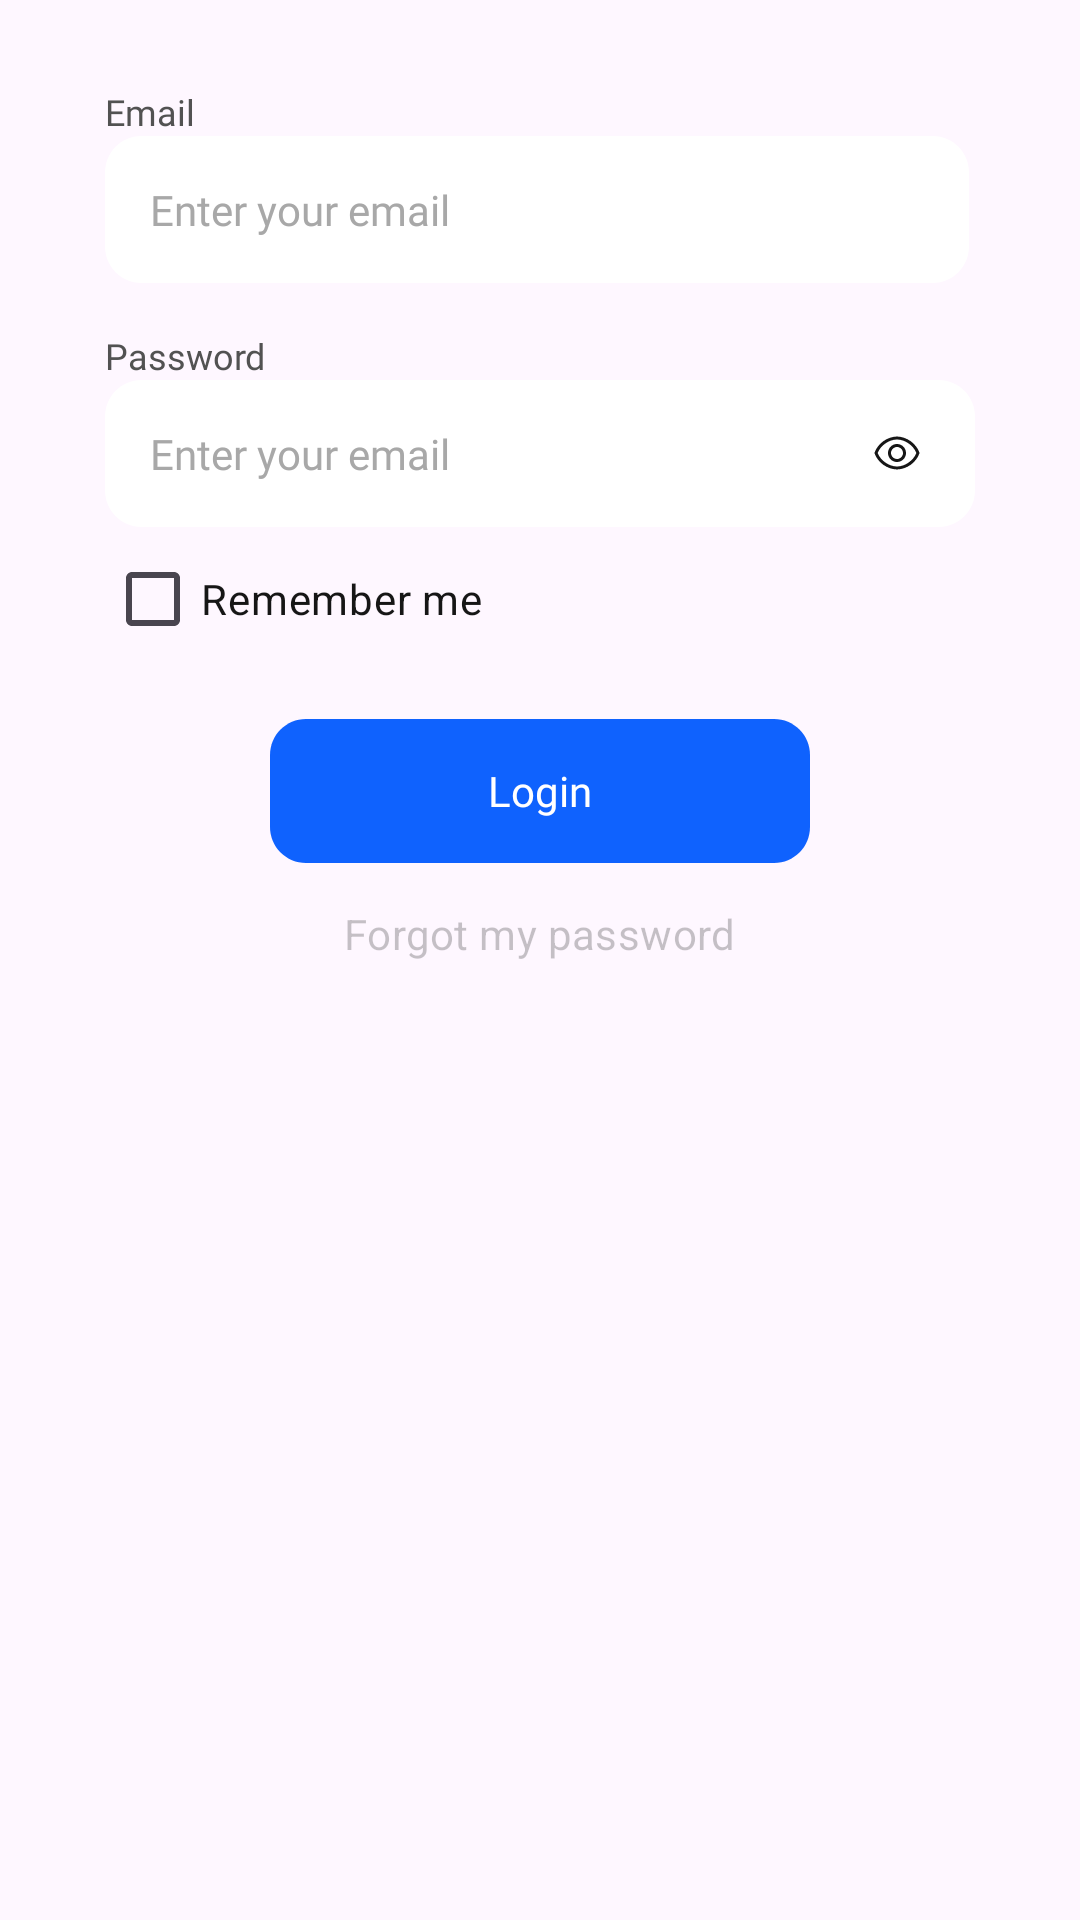

Icon bounding boxes for this 1080px x 1920px phone screenshot, format (x1, y1, x2, y2):
eye: (874, 436, 920, 470)
